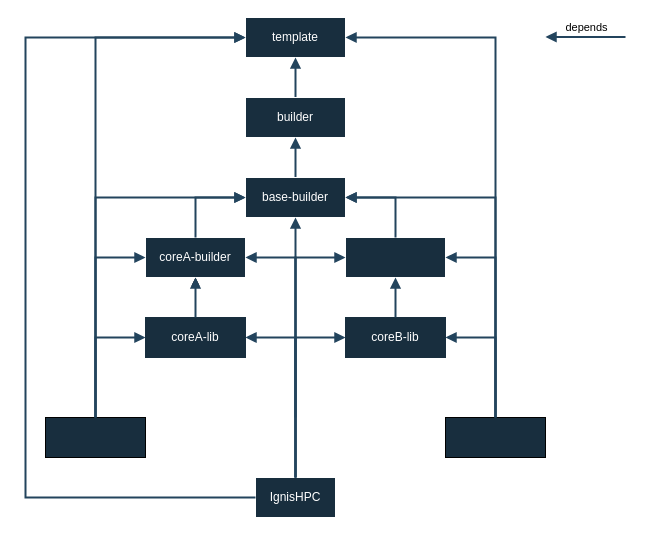
The diagram is 651 pixels wide and 535 high, and some of its shapes have lost their labels. Each missing label, with the centre of its shape:
coreA: the point at 95,437
coreB: the point at 495,437
coreB-builder: the point at 395,257
